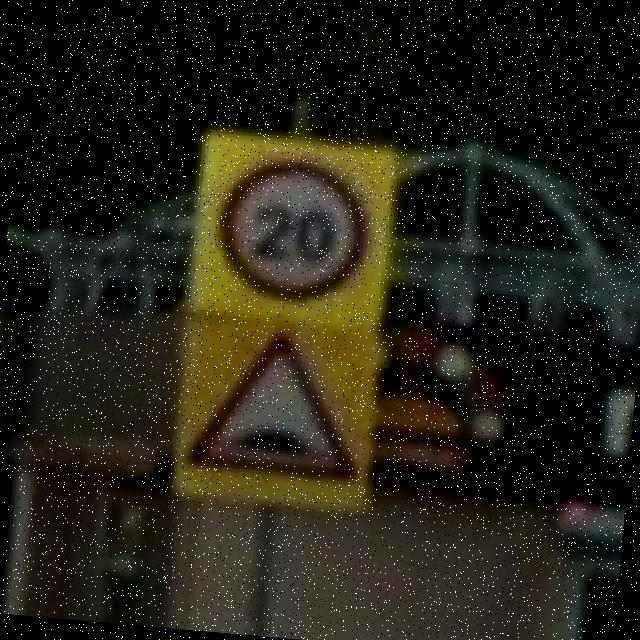Ograniczenie predkosci do 20: (210, 152, 373, 307)
